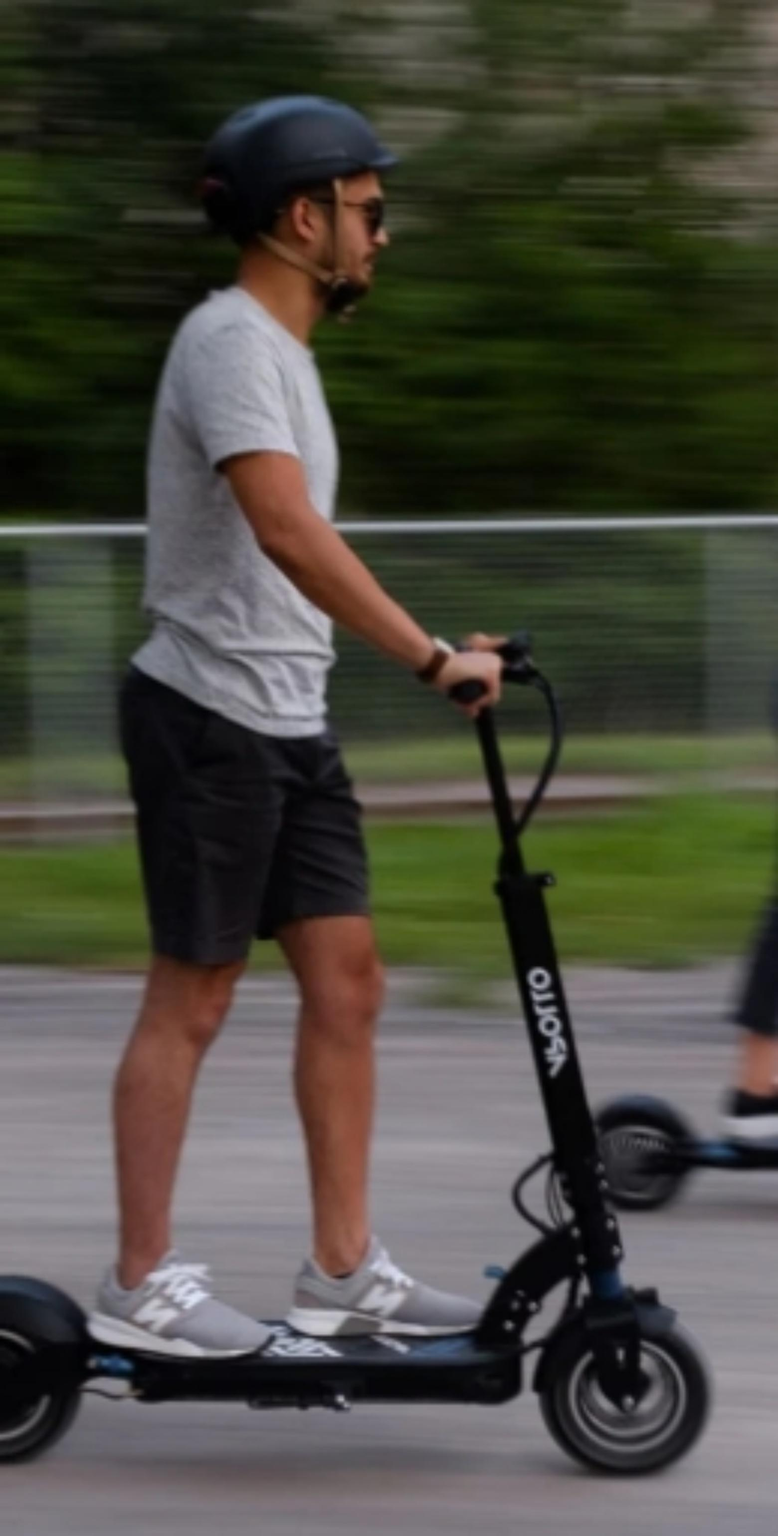helmet: (175, 78, 439, 342)
human: (100, 96, 511, 1349)
kickboard: (5, 1281, 712, 1473)
